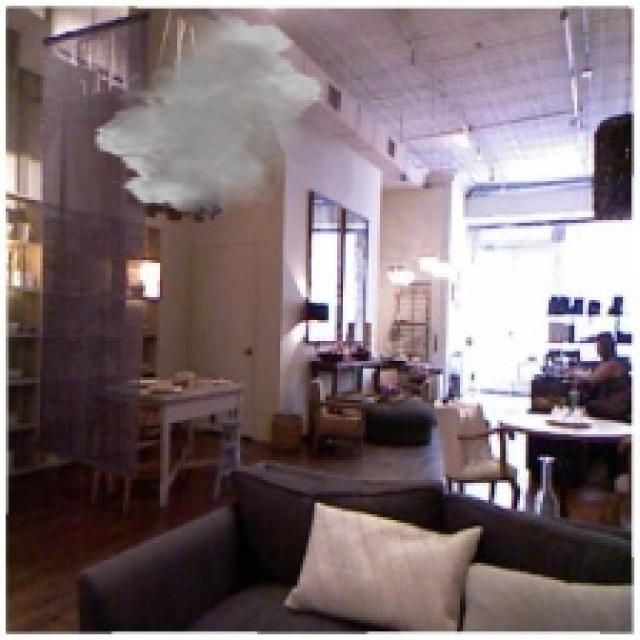smoke: (91, 12, 326, 217)
